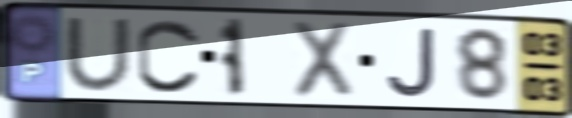1: (216, 15, 249, 101)
8: (450, 25, 513, 104)
C: (133, 16, 203, 97)
J: (383, 25, 440, 101)
U: (62, 15, 136, 94)
X: (288, 18, 357, 103)
